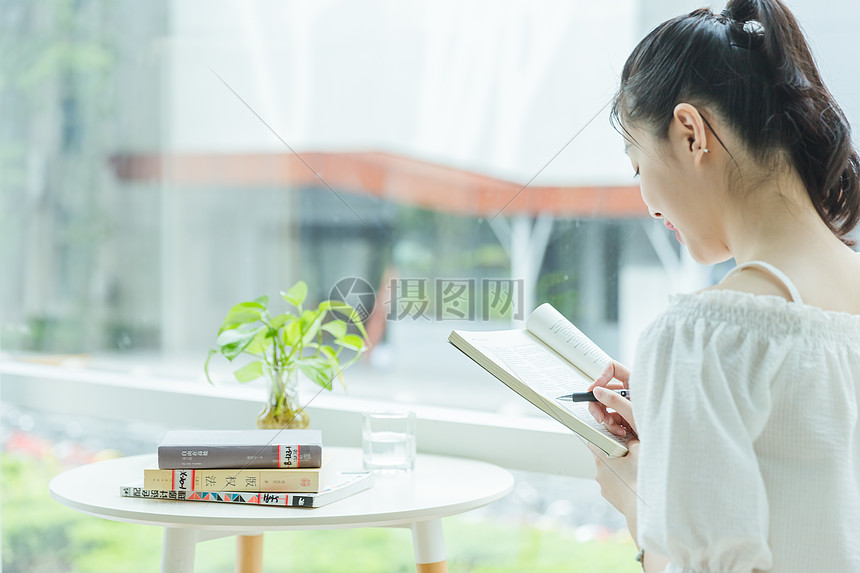book: (437, 293, 666, 474), (113, 466, 380, 522), (155, 417, 332, 478), (139, 460, 331, 502)
